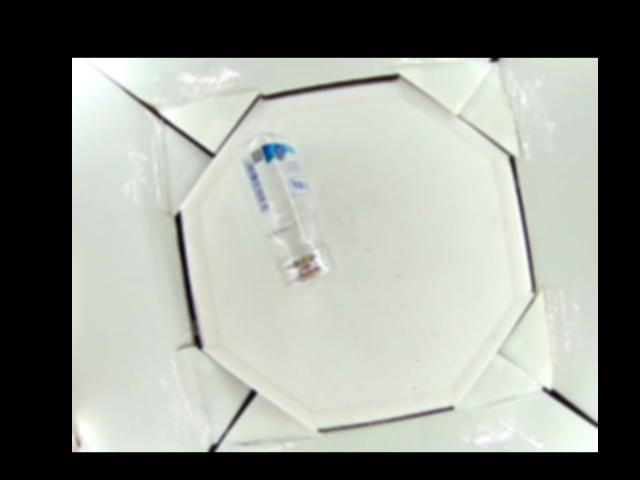Bottle: (231, 134, 335, 285)
